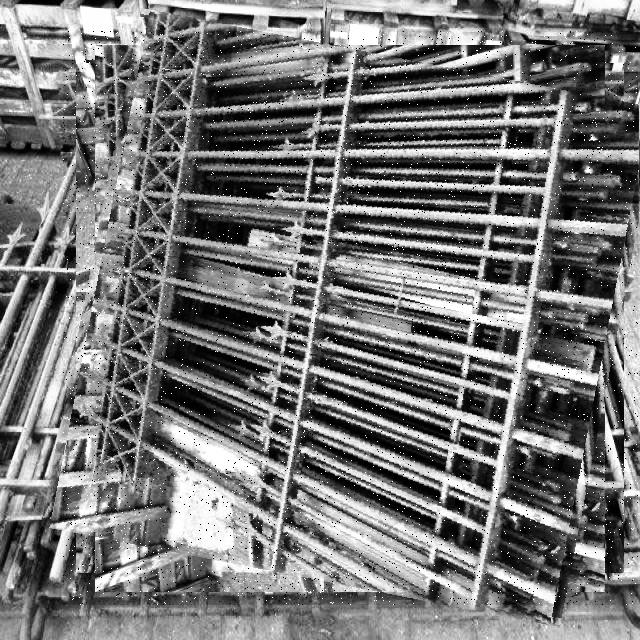fences: (63, 31, 638, 605)
